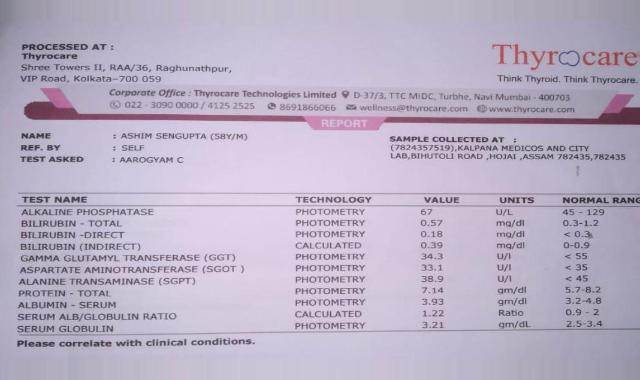Name: (118, 129, 250, 141)
Ref_By: (120, 144, 161, 154)
Reference_Range: (560, 206, 617, 330)
Technology: (290, 206, 376, 338)
Test_Asked: (120, 155, 189, 166)
Test_Name: (16, 206, 259, 336)
Unit: (492, 206, 541, 334)
Value: (416, 207, 457, 332)
